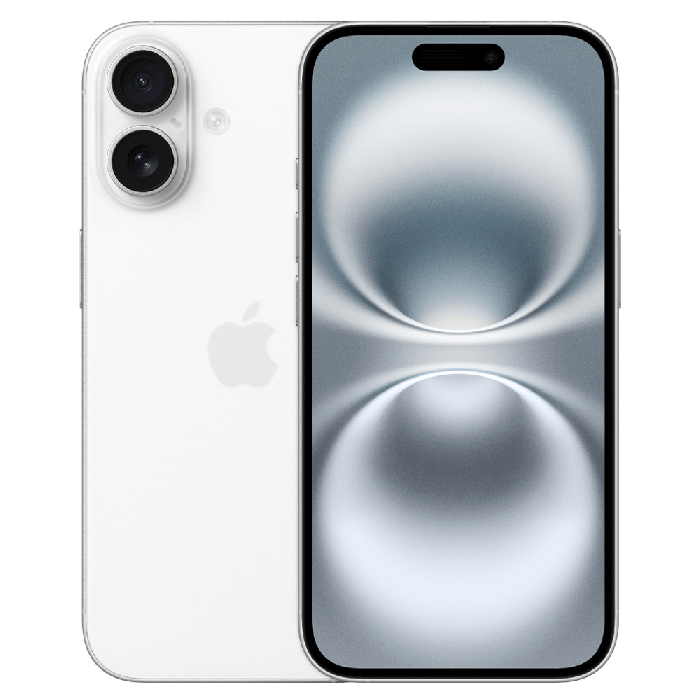IPHONE: (73, 7, 623, 689), (297, 12, 622, 690), (75, 11, 301, 690)
